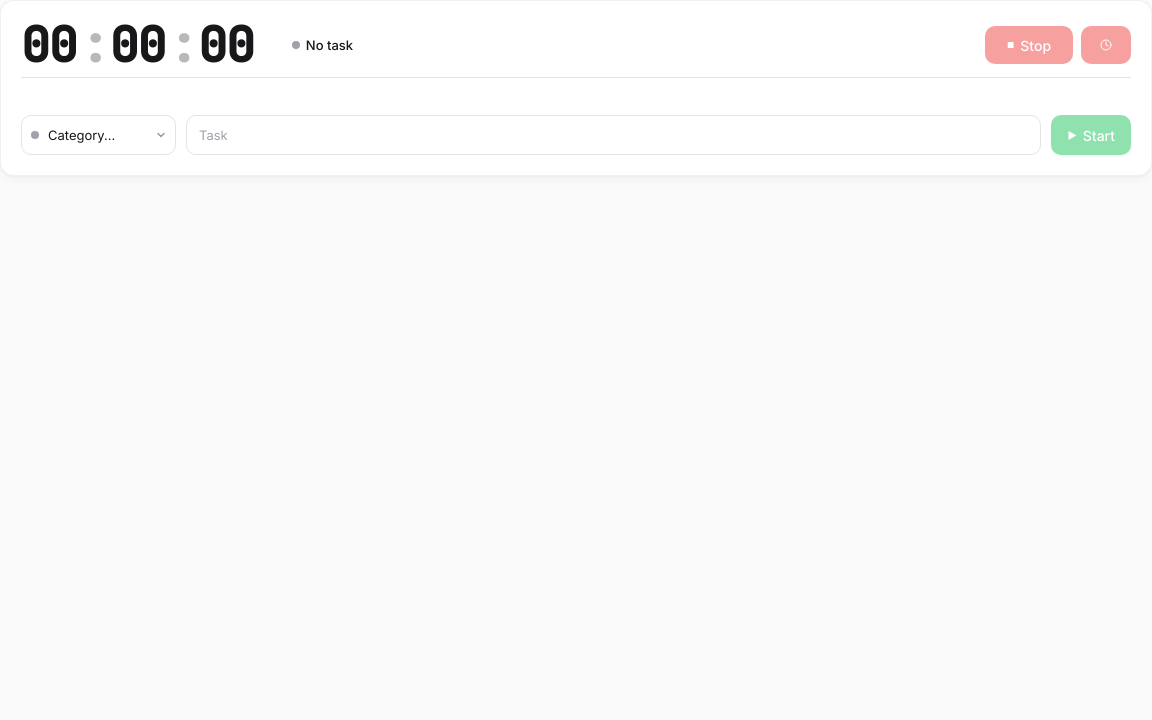
it: TimeTracker › shows new category form when selecting + New category option
This screenshot has width=1152, height=720.
Select "+ New category" from dropdown
Select "+ New category" in the dropdown at (98, 135), box top-left (21, 115), bottom-right (176, 155)
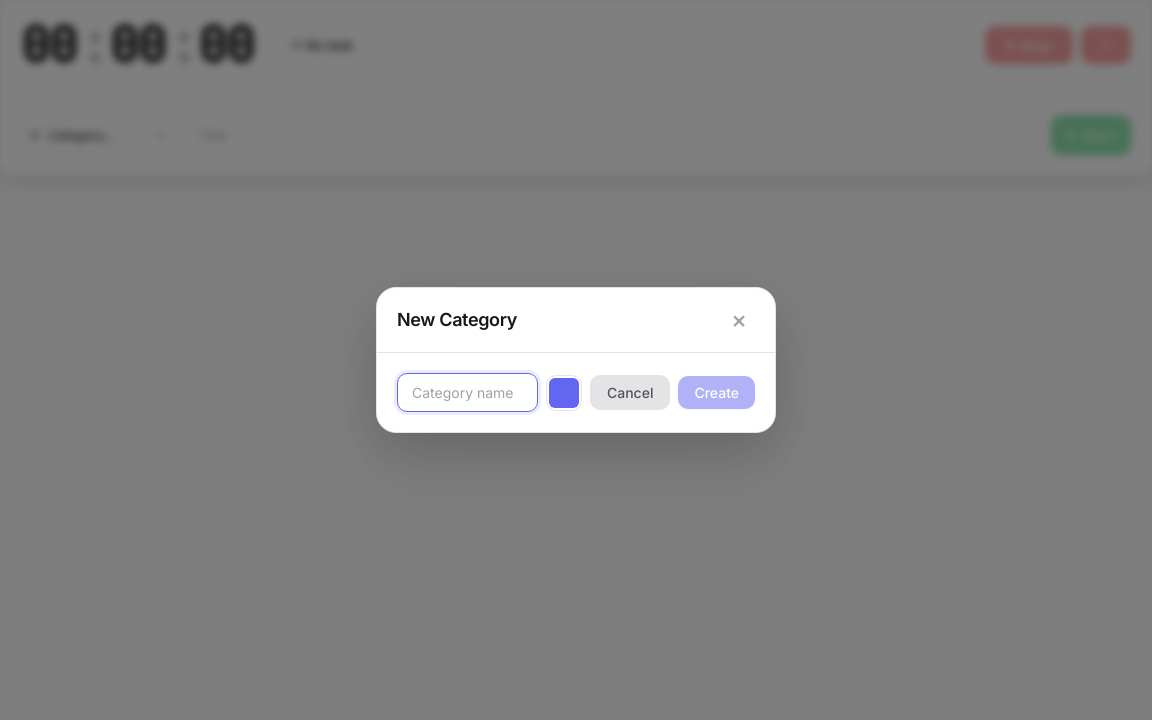
Expected: the field with placeholder "Category name" is shown, top-left (397, 373), bottom-right (538, 412)
